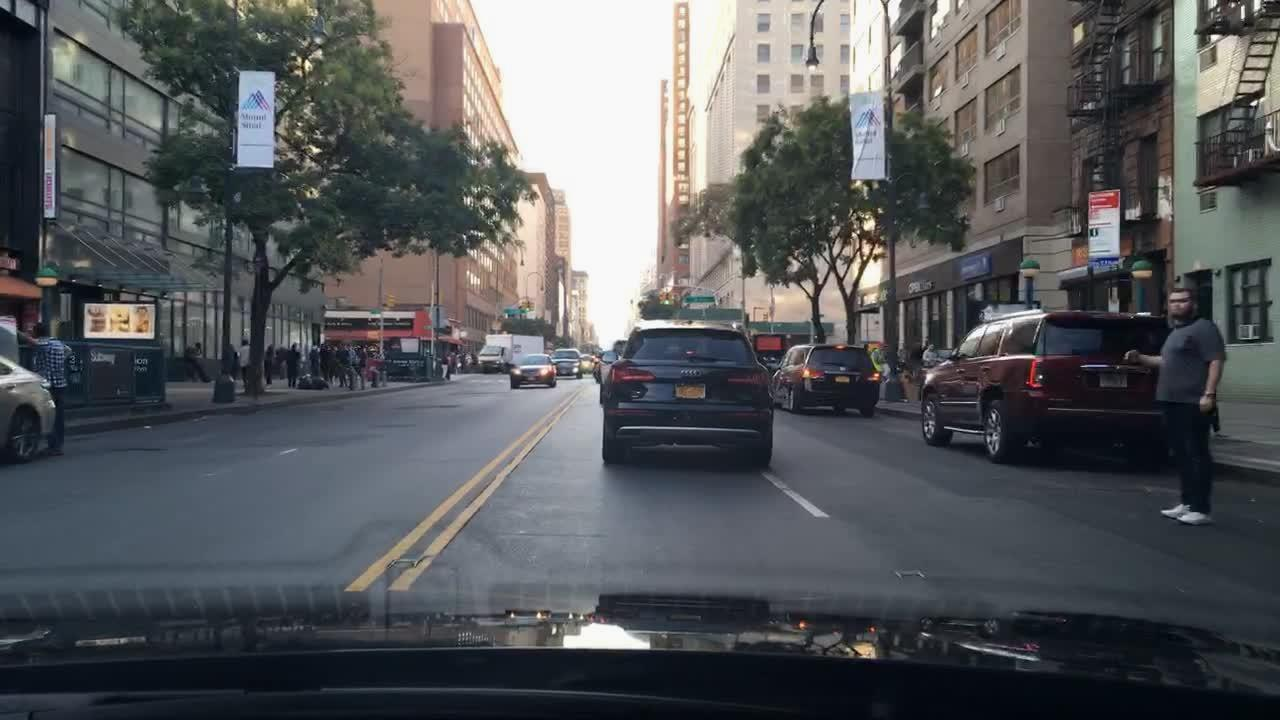Audi: (676, 367, 706, 379)
